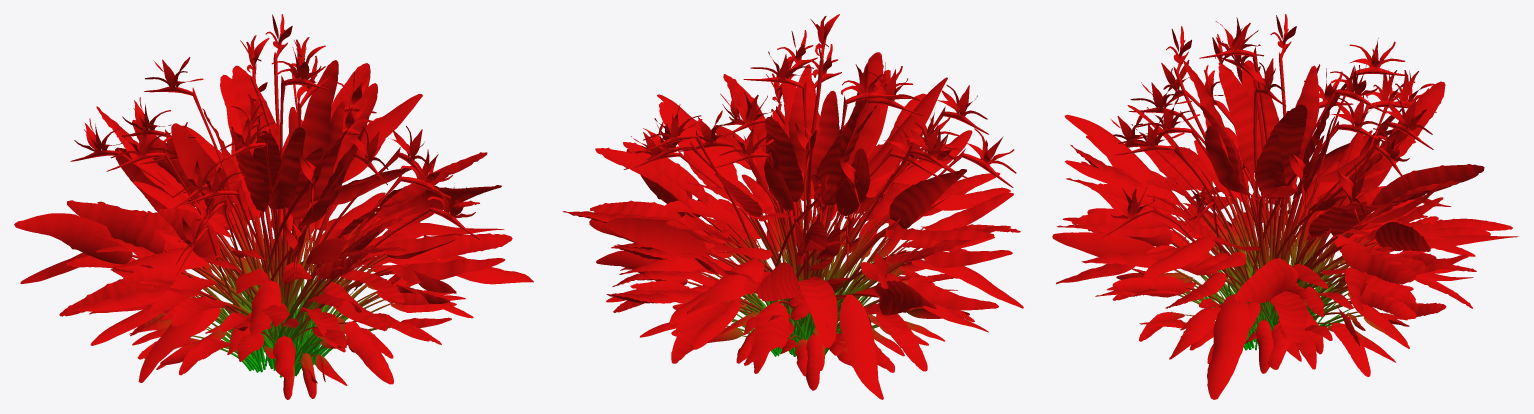
Rendered from Bird Of Paradise_LOD2_Var2_wfypeifha.fbx.
The picture shows the model from 3 angles, left to right: view 1: azimuth 30°, elevation 25°; view 2: azimuth 150°, elevation 25°; view 3: azimuth 270°, elevation 25°; orthographic projection. The views are drawn at different scales.
Visible parts, largest first — view 1: _mfae_Var2_LOD2; view 2: _mfae_Var2_LOD2; view 3: _mfae_Var2_LOD2.
Boxes of the visible parts, left/top/right/bottom form: _mfae_Var2_LOD2: left=14, top=14, right=533, bottom=399; _mfae_Var2_LOD2: left=562, top=14, right=1023, bottom=399; _mfae_Var2_LOD2: left=1052, top=14, right=1518, bottom=399.
Size of the model in its own units: 242 by 176 by 233.
